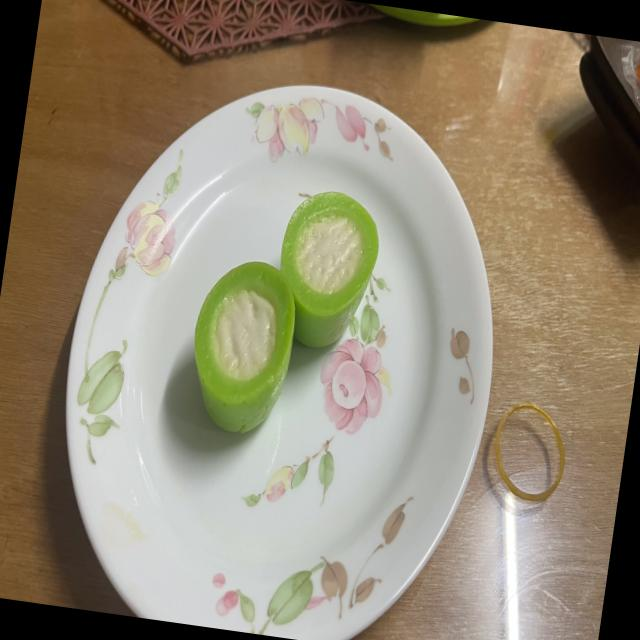nona-manis: (195, 261, 295, 433), (281, 191, 379, 347)
